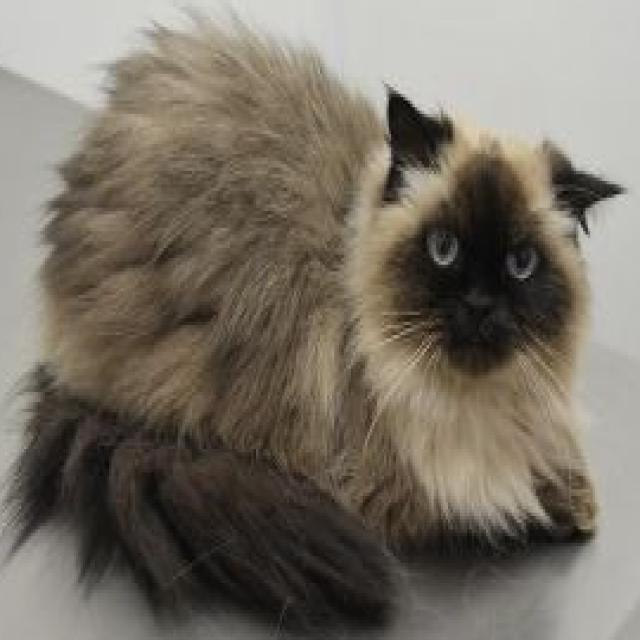Birman: (9, 5, 632, 634)
